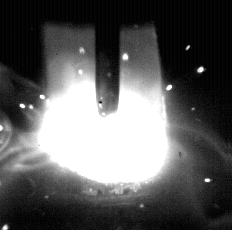arame: (95, 0, 121, 117)
poca: (36, 0, 171, 230)
